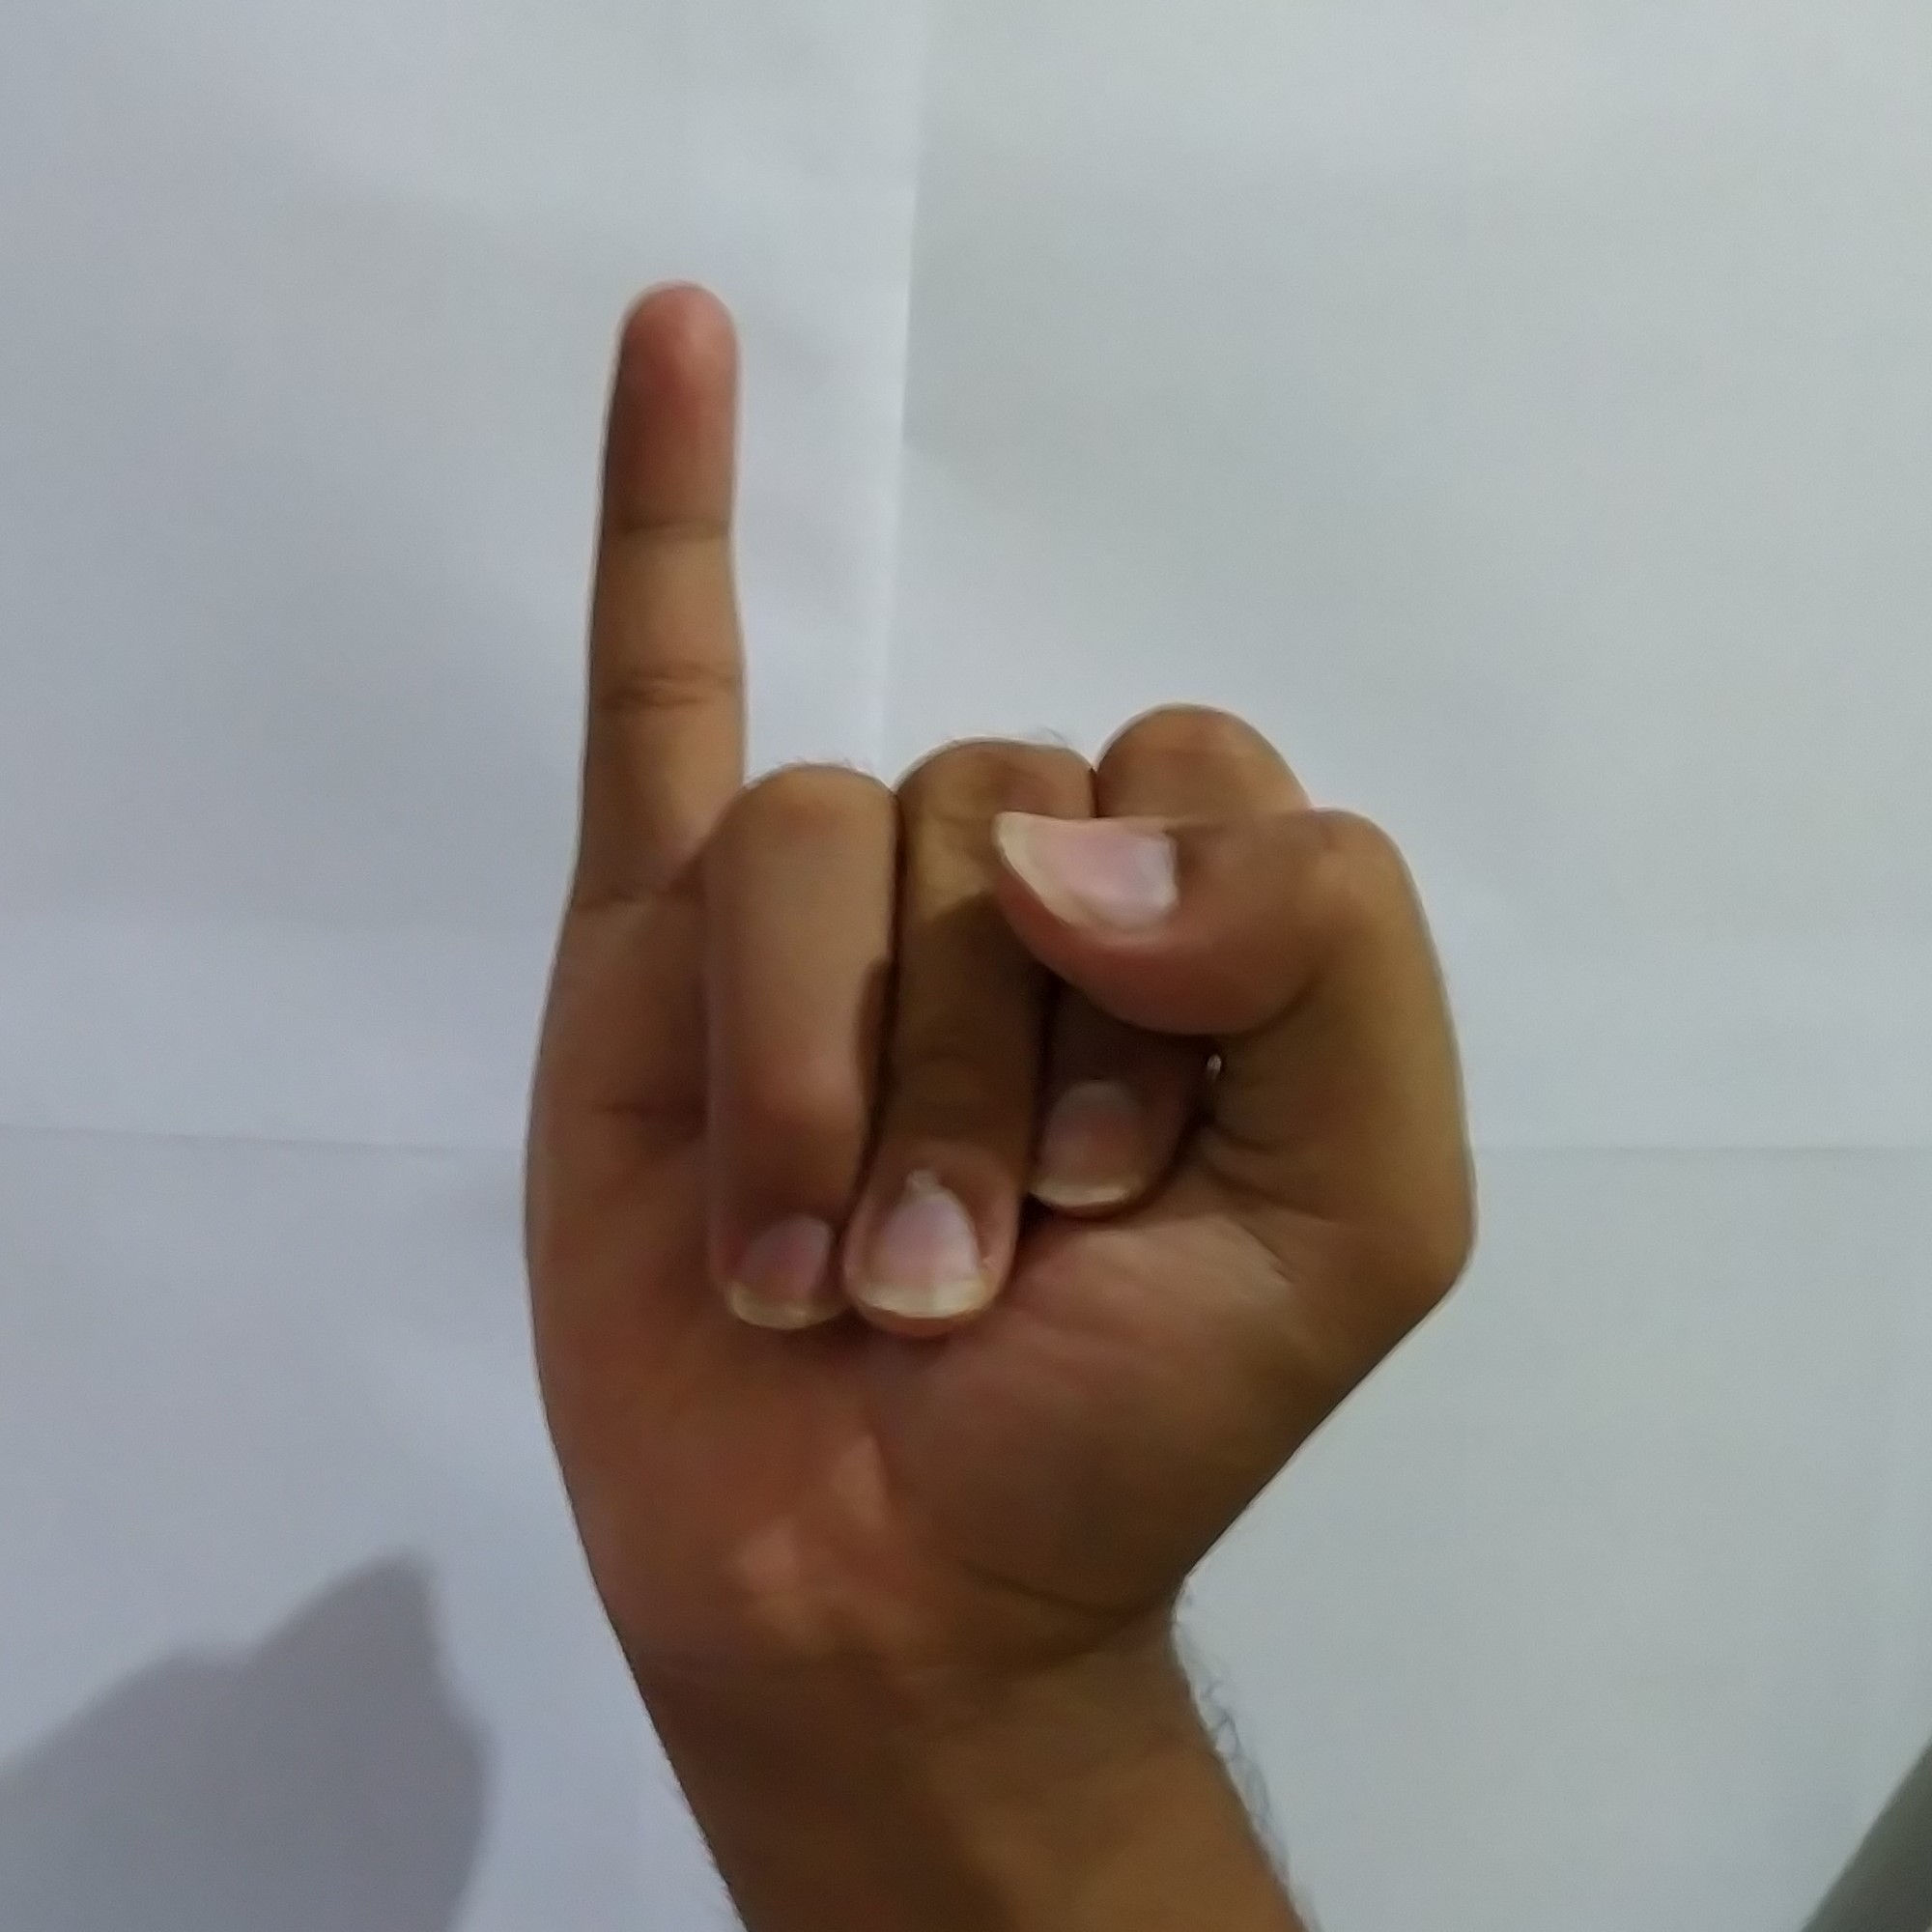I: (492, 258, 1506, 1615)
